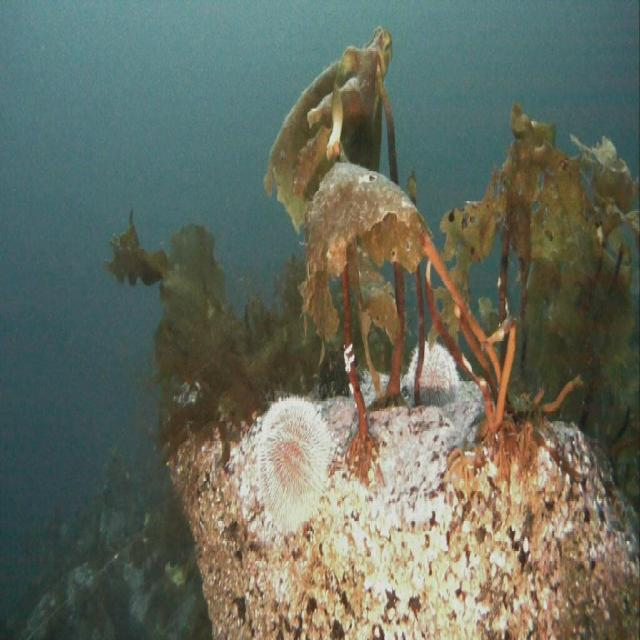Deniz Kestanesi: (255, 394, 335, 536), (406, 339, 461, 407)
